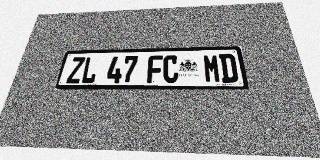4: (106, 56, 124, 83)
7: (121, 56, 138, 83)
C: (163, 55, 178, 83)
D: (219, 54, 239, 83)
F: (147, 55, 163, 83)
L: (80, 57, 99, 83)
M: (203, 54, 221, 83)
Z: (66, 57, 85, 84)
